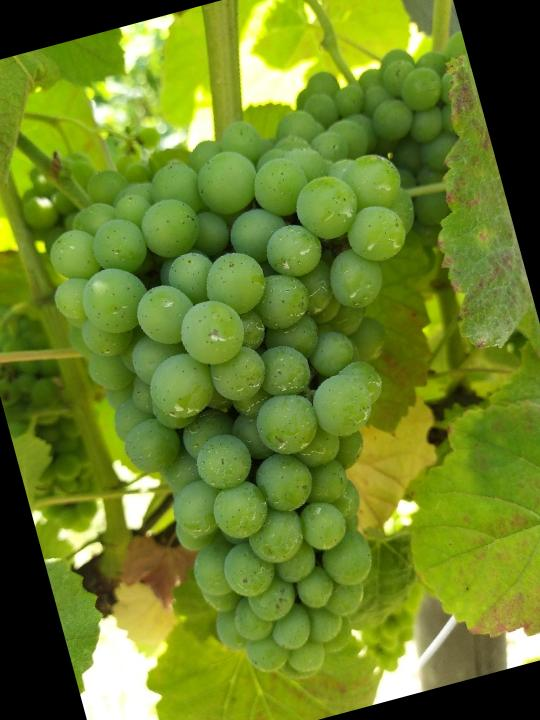grape: (26, 102, 526, 714)
